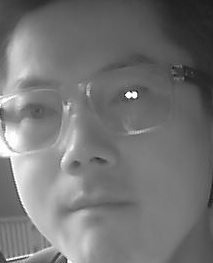glass: (87, 62, 172, 134), (1, 88, 68, 154)
mouth: (59, 184, 137, 227)
